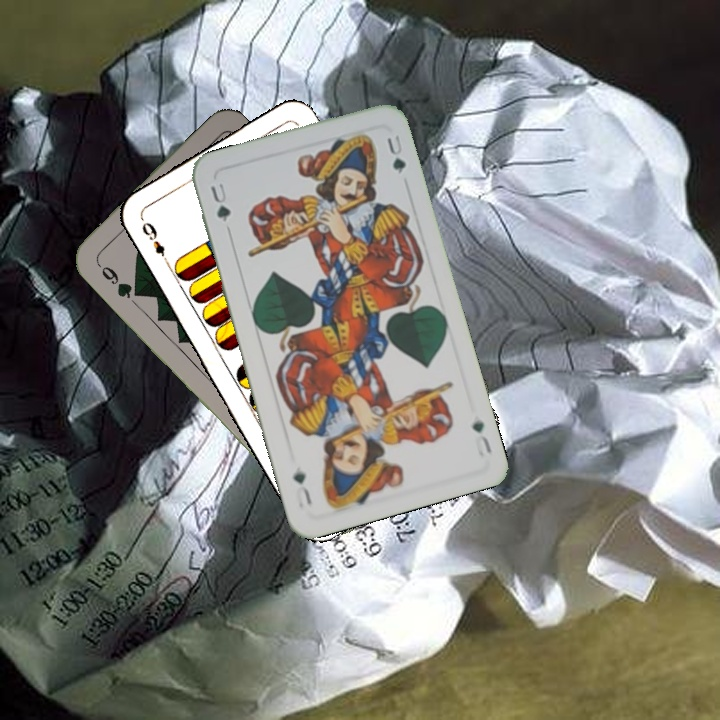E9: (138, 218, 172, 268)
G9: (92, 256, 141, 302)
GU: (206, 179, 233, 225), (468, 415, 495, 459)
